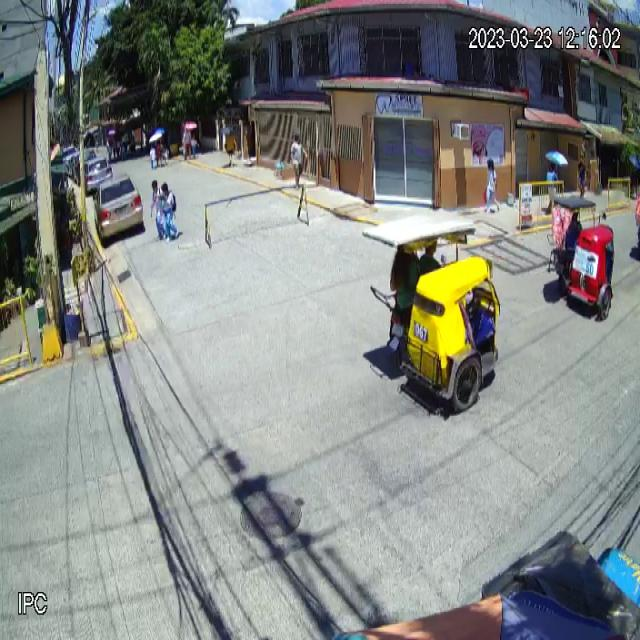Car: (93, 172, 144, 241)
Tricycle: (362, 212, 501, 410), (546, 195, 615, 320)
